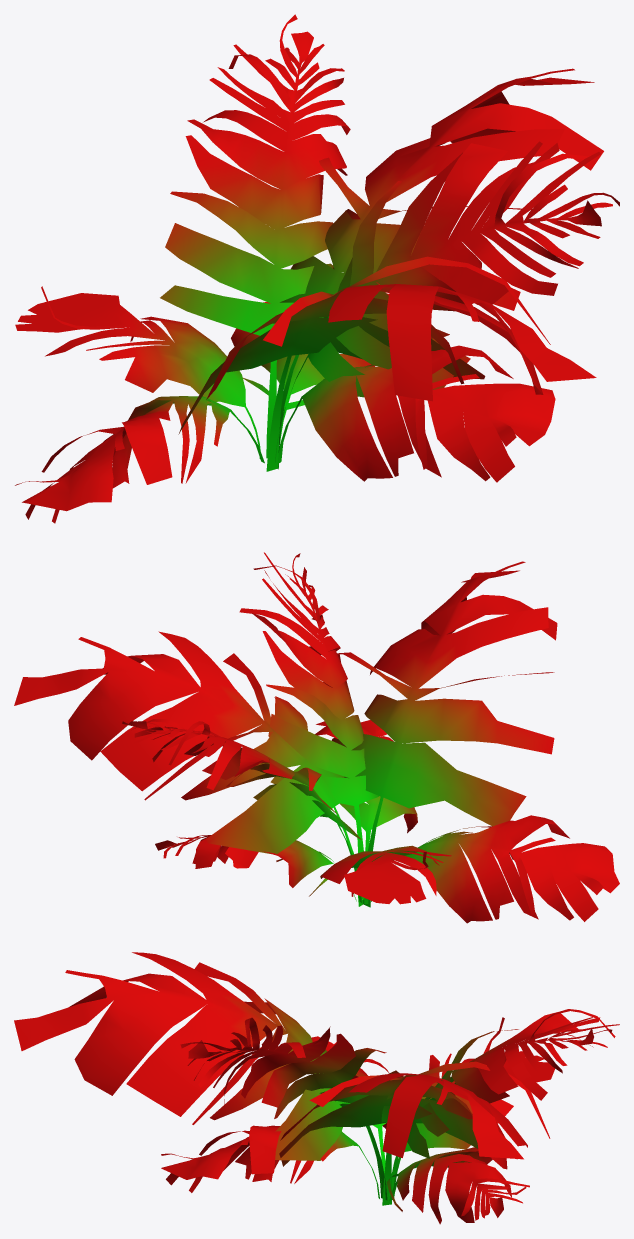
Rendered from Var3_LOD1.fbx.
The picture shows the model from 3 angles, top to bottom: view 1: azimuth 30°, elevation 25°; view 2: azimuth 150°, elevation 25°; view 3: azimuth 270°, elevation 25°; orthographic projection. The views are drawn at different scales.
Parts seen in each view (by area): view 1: _f511_Var3_LOD1; view 2: _f511_Var3_LOD1; view 3: _f511_Var3_LOD1.
Boxes of the visible parts, bbox=[...] form: _f511_Var3_LOD1: bbox=[15, 14, 619, 523]; _f511_Var3_LOD1: bbox=[14, 552, 619, 923]; _f511_Var3_LOD1: bbox=[14, 952, 619, 1224].
Size of the model in its own units: 330 by 156 by 331.
